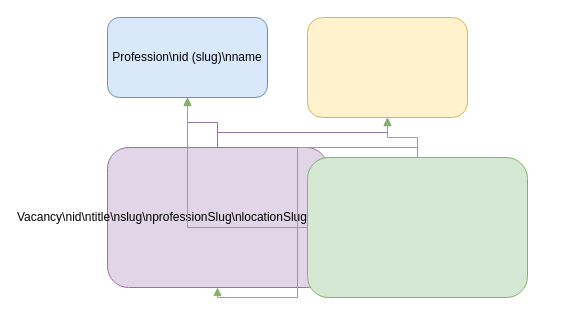
The diagram is 584 pixels wide and 323 high, and some of its shapes have lost their labels. Each missing label, with the centre of its shape:
Location\nid (slug)\ncountry\ncity: [387,67]
Post (Article)\nid\ntitle\nslug\ncontent\nprofessions\nlocations: [417,227]
